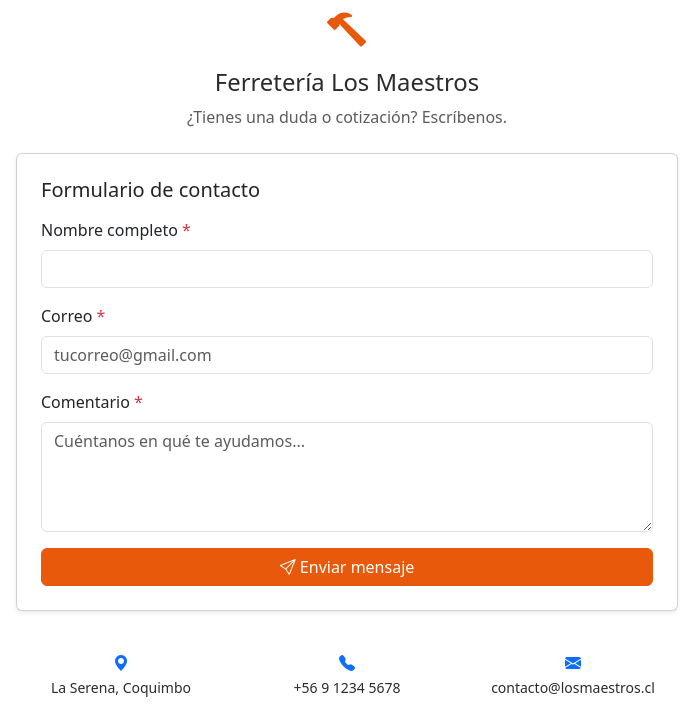
Test: Página Contacto › al enviar vacío muestra los 3 errores
The image size is (695, 714).
Click the button "Enviar mensaje": x=347, y=567 [41,548,653,586]
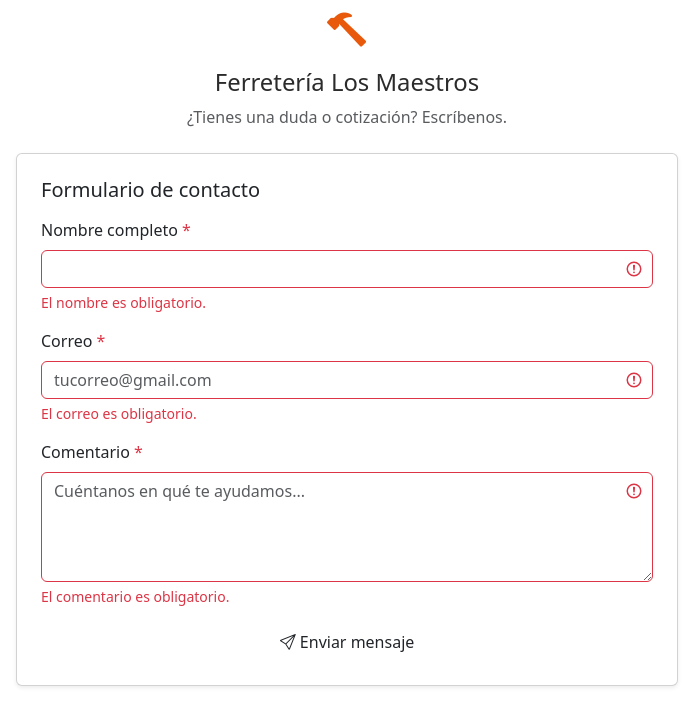
Expected: the text "El nombre es obligatorio." is shown, [41,293,206,312]
Expected: the text "El correo es obligatorio." is shown, [41,404,197,423]
Expected: the text "El comentario es obligatorio." is shown, [41,587,229,606]
